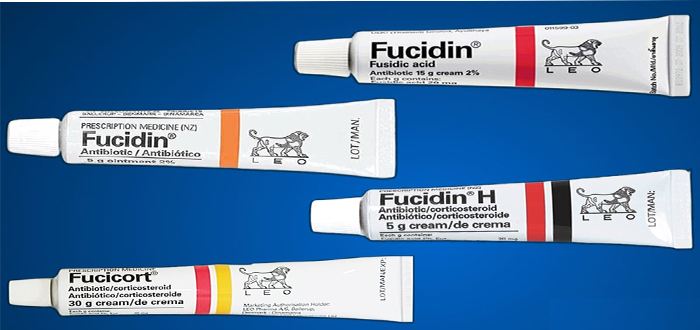Medicine: (299, 164, 695, 257), (284, 15, 700, 102), (2, 100, 411, 178), (7, 255, 419, 330)
